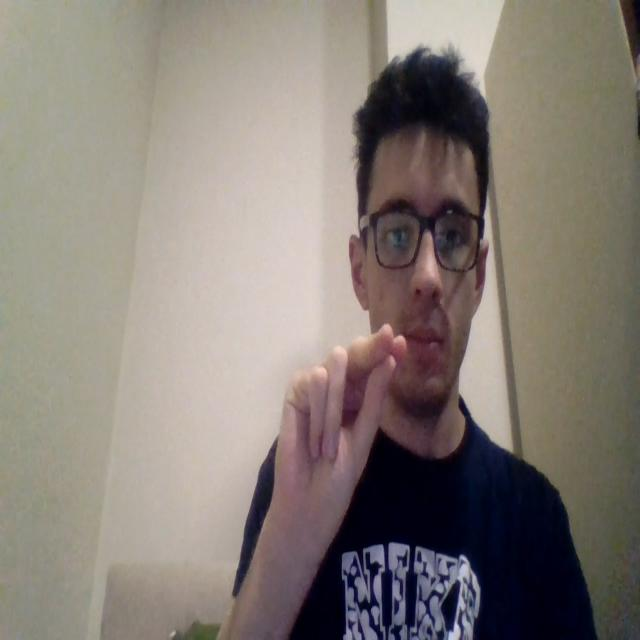no: (268, 321, 407, 549)
